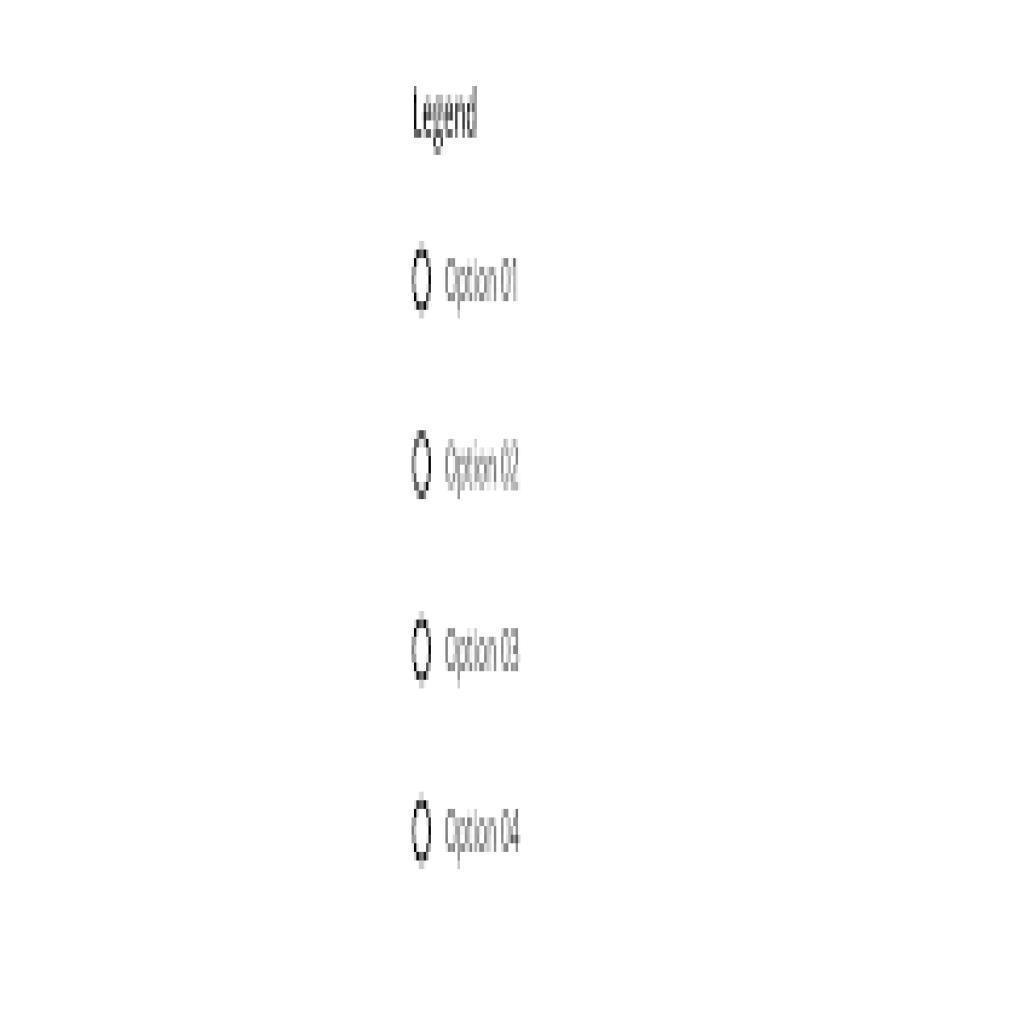radio: (408, 785, 434, 878), (410, 605, 435, 699), (409, 426, 435, 512), (409, 238, 434, 326)
